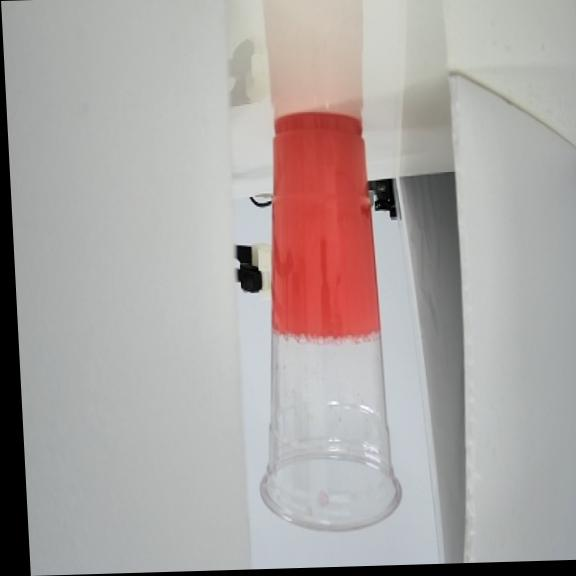Plastik: (260, 114, 400, 528)
